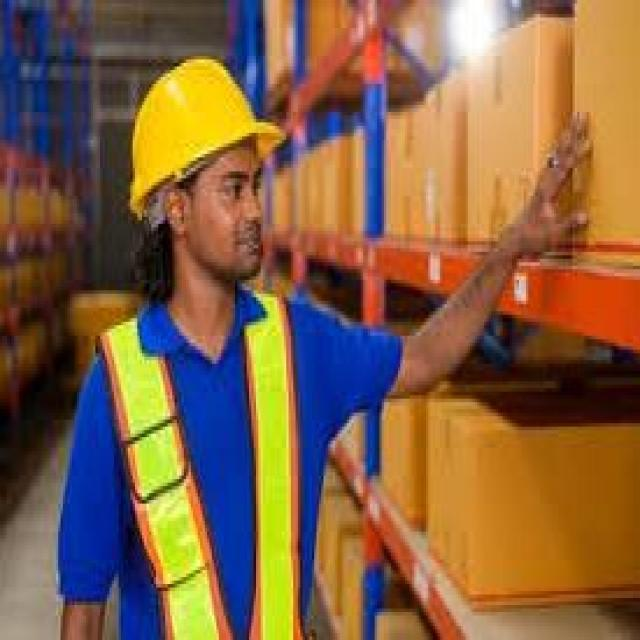capacete: (124, 50, 291, 223)
colete: (77, 287, 332, 640)
pessoa: (50, 54, 599, 640)
